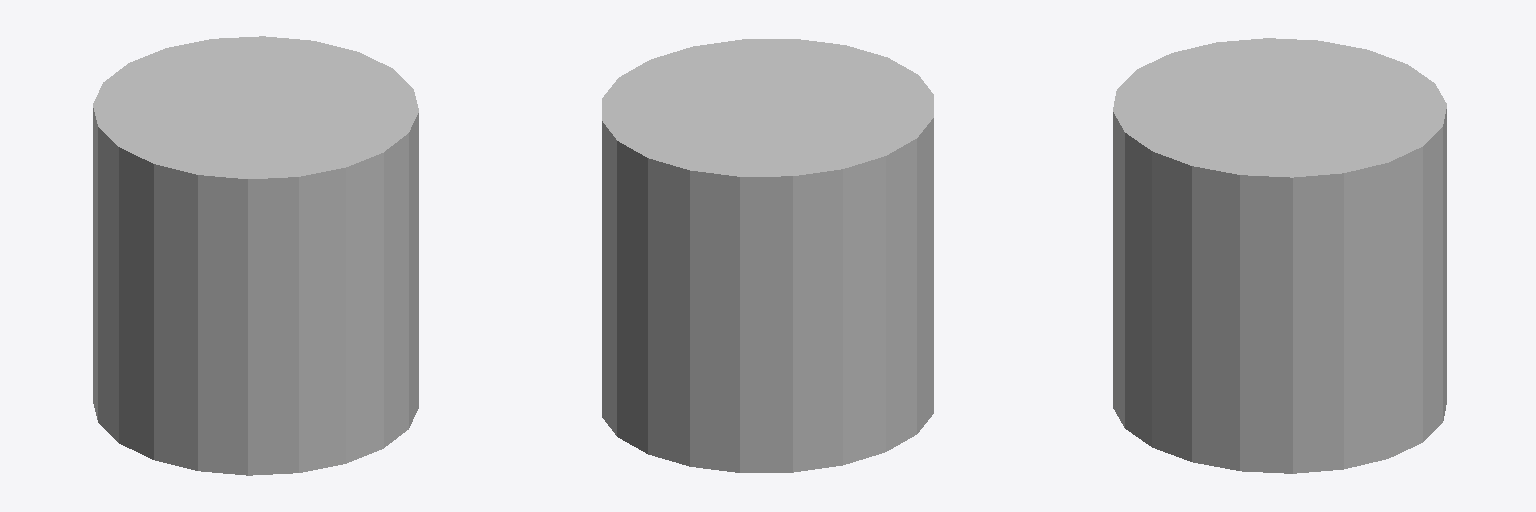
The model's file is pumpkinCan.obj.
3 renders of one model, left to right at view 1: azimuth 30°, elevation 25°; view 2: azimuth 150°, elevation 25°; view 3: azimuth 270°, elevation 25°, orthographic.
Visible parts, largest first — view 1: bakedBean:pCylinder1; view 2: bakedBean:pCylinder1; view 3: bakedBean:pCylinder1.
Part boxes in pixels (left/top/right/bottom): bakedBean:pCylinder1: left=93, top=36, right=418, bottom=475; bakedBean:pCylinder1: left=602, top=39, right=933, bottom=472; bakedBean:pCylinder1: left=1113, top=38, right=1446, bottom=473.
Size of the model in its own units: 0.6096 by 0.6035 by 0.6179.